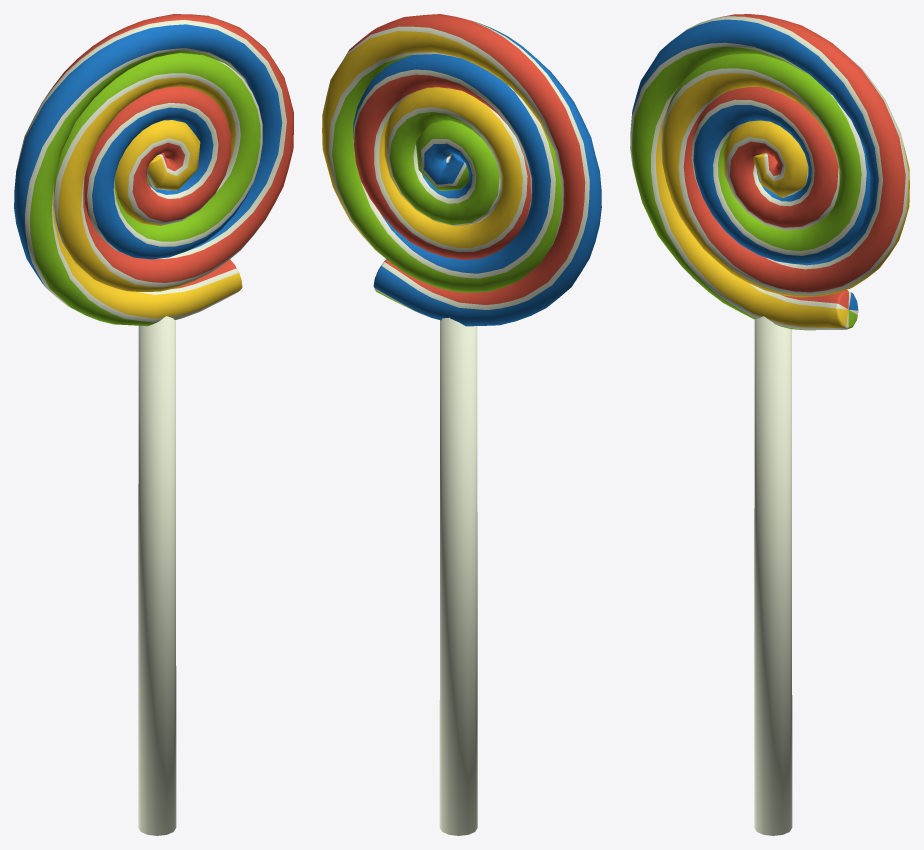
The model's file is Pointer_04_Lollipop.fbx.
The picture shows the model from 3 angles, left to right: view 1: azimuth 30°, elevation 25°; view 2: azimuth 150°, elevation 25°; view 3: azimuth 330°, elevation 25°; orthographic projection.
Parts seen in each view (by area): view 1: Pointer_04_Lollipop; view 2: Pointer_04_Lollipop; view 3: Pointer_04_Lollipop.
Boxes of the visible parts, x1=… form: Pointer_04_Lollipop: x1=14, y1=14, x2=293, y2=835; Pointer_04_Lollipop: x1=322, y1=14, x2=601, y2=835; Pointer_04_Lollipop: x1=630, y1=14, x2=909, y2=835.
Bounding box in the file's own units: 0.3021 × 0.8502 × 0.0383.
